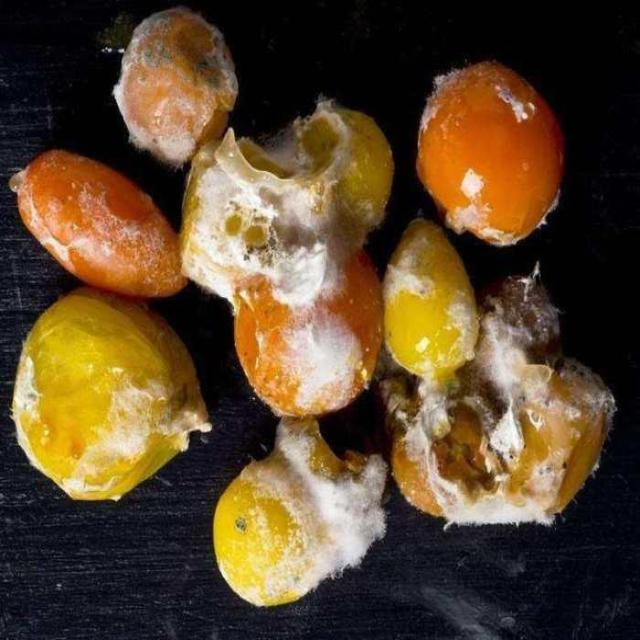Wet Waste: (8, 6, 618, 607)
